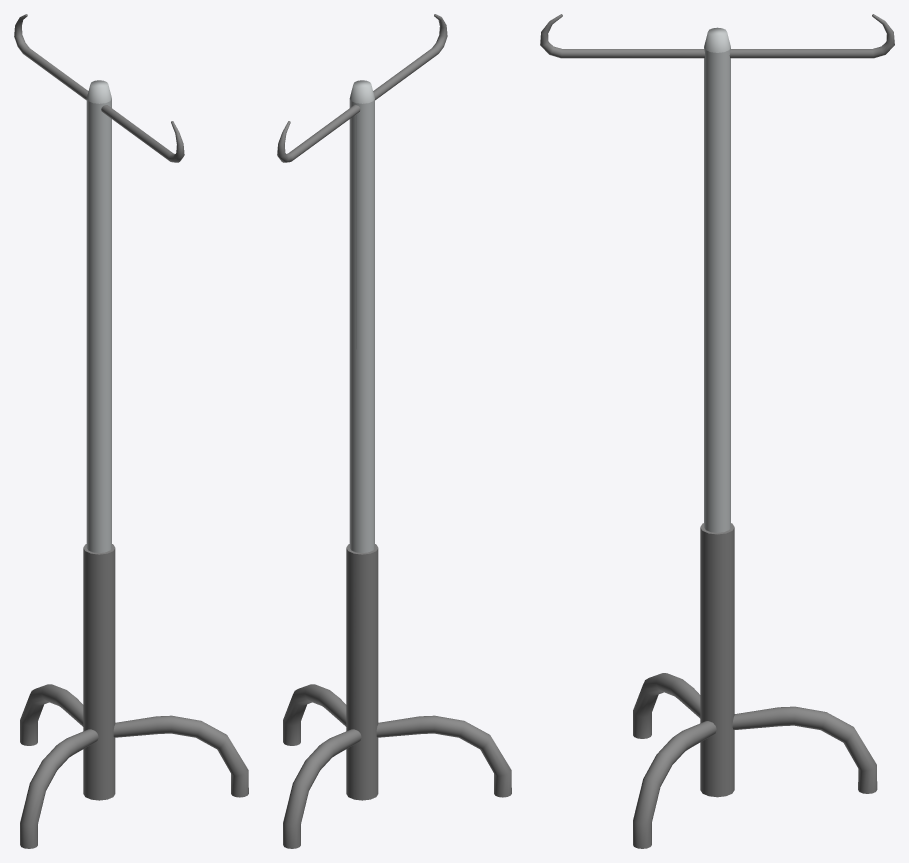
The model's file is ivpole.glb.
3 renders of one model, left to right at view 1: azimuth 30°, elevation 25°; view 2: azimuth 150°, elevation 25°; view 3: azimuth 270°, elevation 25°, orthographic. The views are drawn at different scales.
Visible parts, largest first — view 1: IvPole-material; view 2: IvPole-material; view 3: IvPole-material.
Boxes of the visible parts, bbox=[...] form: IvPole-material: bbox=[14, 14, 248, 848]; IvPole-material: bbox=[277, 14, 511, 848]; IvPole-material: bbox=[540, 14, 894, 848].
Size of the model in its own units: 0.0843 by 0.2584 by 0.1071.
1 material, 1 textured.
